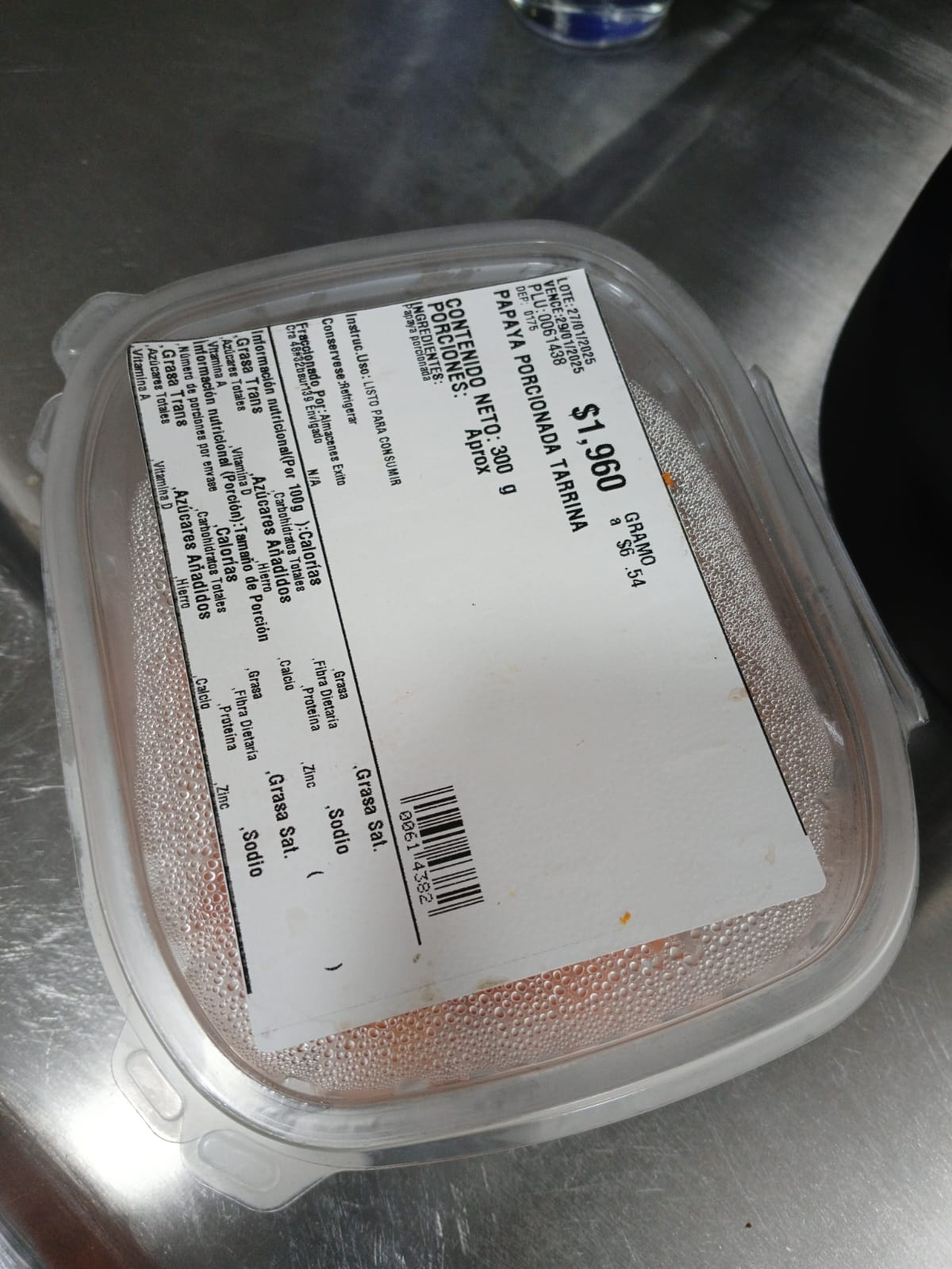Ordinario: (27, 223, 937, 1212)
